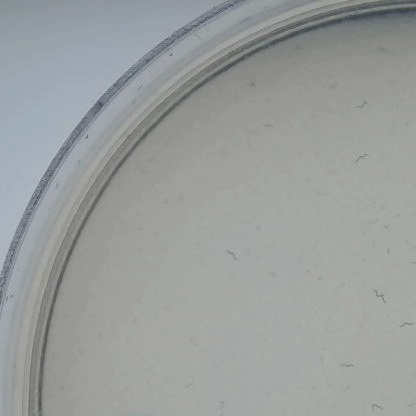worm: (361, 396, 391, 416), (343, 144, 372, 164), (370, 286, 394, 309), (346, 95, 376, 111), (225, 244, 243, 270), (395, 317, 416, 338), (340, 355, 361, 374), (179, 375, 197, 392), (404, 396, 416, 412)
